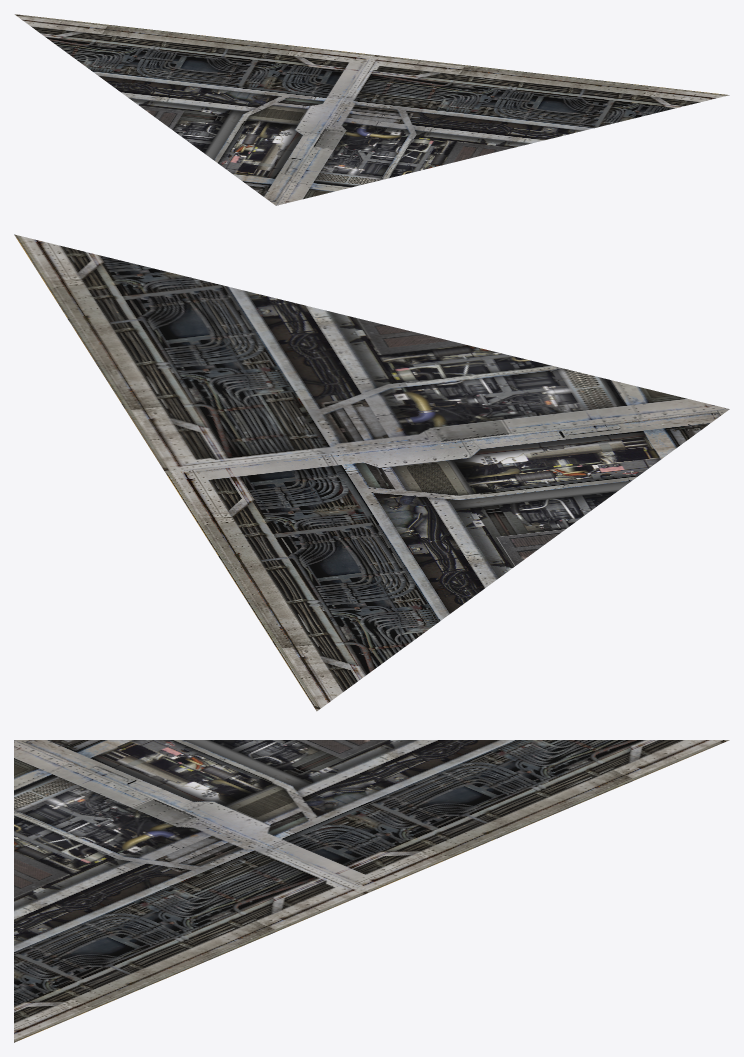
The model's file is Ceiling_B_13.fbx.
The picture shows the model from 3 angles, top to bottom: view 1: azimuth 30°, elevation 25°; view 2: azimuth 150°, elevation 25°; view 3: azimuth 270°, elevation 25°; orthographic projection. The views are drawn at different scales.
Parts seen in each view (by area): view 1: Ceiling_B_13; view 2: Ceiling_B_13; view 3: Ceiling_B_13.
Boxes of the visible parts, x1=… form: Ceiling_B_13: x1=14, y1=14, x2=729, y2=205; Ceiling_B_13: x1=14, y1=234, x2=729, y2=711; Ceiling_B_13: x1=14, y1=740, x2=729, y2=1042.
Bounding box in the file's own units: 500 × 0.00227 × 500.
